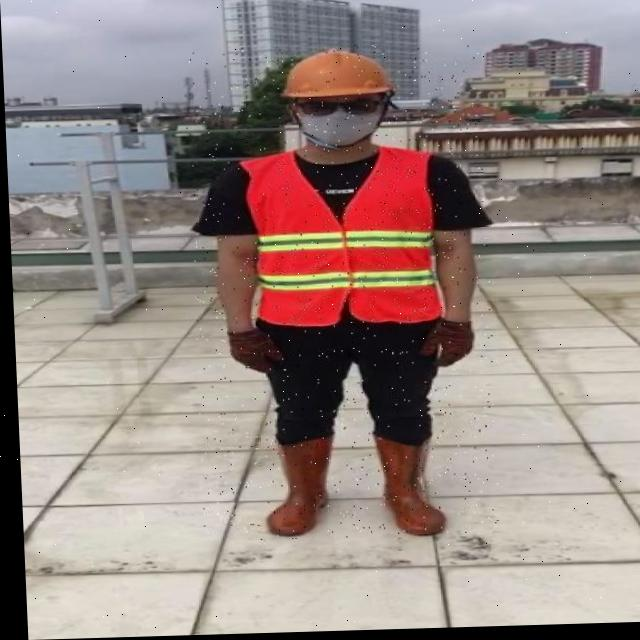Gloves: (414, 320, 472, 370), (224, 329, 280, 375)
Helmet: (277, 49, 396, 151)
Safety-Boot: (368, 432, 441, 539), (258, 435, 332, 538)
Safety-Vest: (236, 146, 442, 332)
